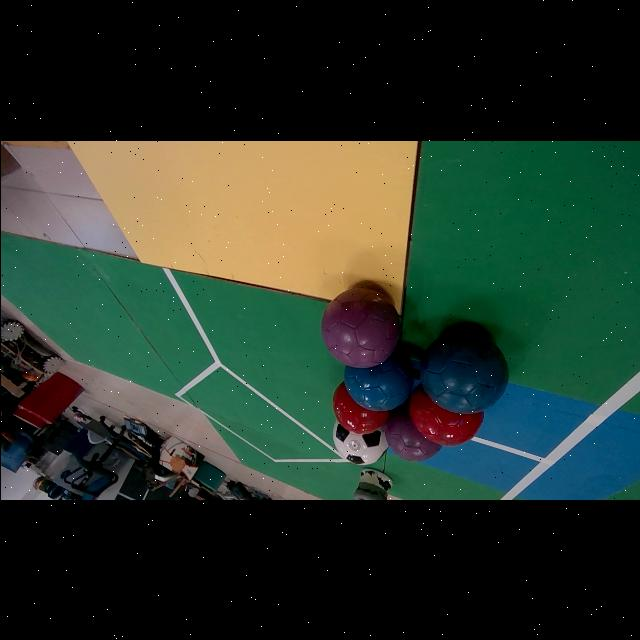B: (419, 330, 508, 413), (345, 347, 414, 412)
P: (321, 288, 400, 367), (383, 399, 440, 462)
R: (409, 386, 483, 446), (331, 383, 388, 435)
